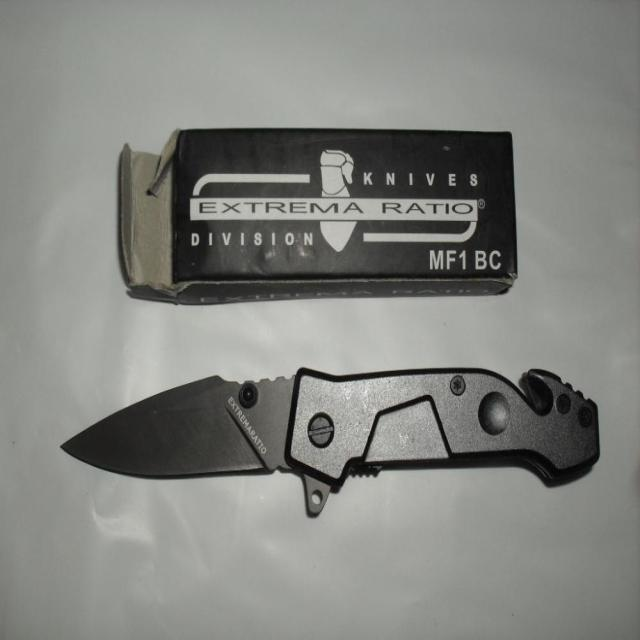knife: (61, 368, 603, 531)
